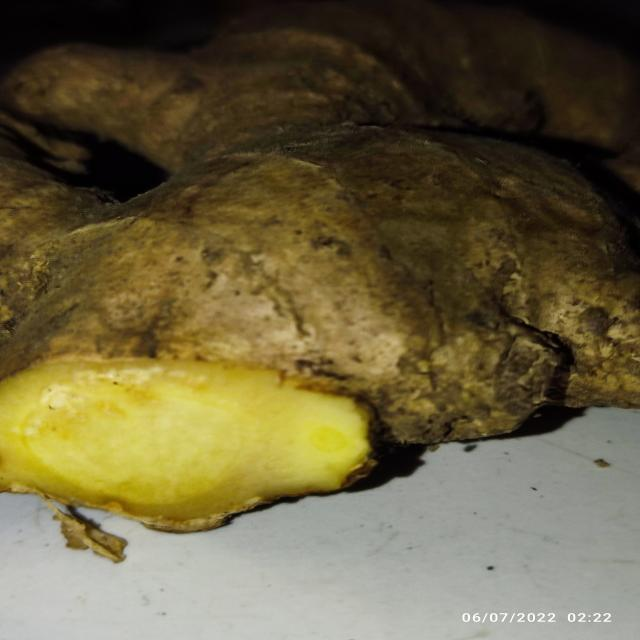ginger: (4, 49, 640, 496)
